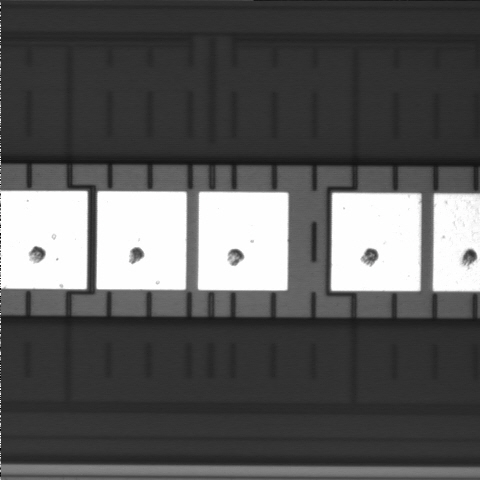pad: (96, 191, 187, 290), (198, 192, 288, 290), (331, 193, 421, 291)
